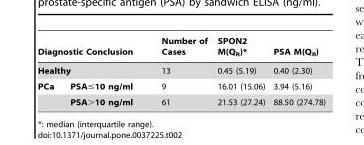table: (37, 36, 324, 106)
table column: (61, 36, 146, 106), (146, 36, 211, 106), (211, 36, 268, 106), (268, 36, 324, 106), (37, 36, 61, 106)
table column header: (37, 36, 324, 94)
table row: (37, 36, 324, 61), (37, 61, 324, 78), (37, 78, 324, 94), (37, 94, 324, 106)
table spanning cell: (37, 36, 146, 78), (146, 36, 211, 94), (211, 36, 268, 94), (268, 36, 324, 94)
